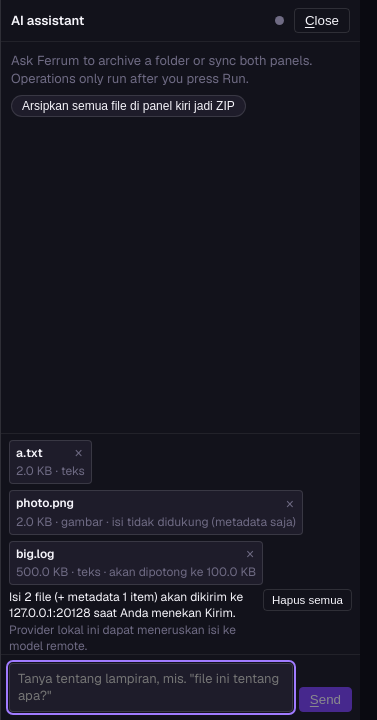
Test: ChatPanel attachments (FER-486) › shows name, size and kind per chip, the destination, and removes a chip
This screenshot has width=377, height=720.
Expected: the number of list items with test id "attachment-chip" is 3, [9,440,92,484]; [9,490,303,535]; [9,541,263,585]
Expected: the list item with test id "attachment-chip" shows "a.txt", [16,445,43,461]
Click the button named "Hapus lampiran a.txt": (79, 453) [73,446,85,460]
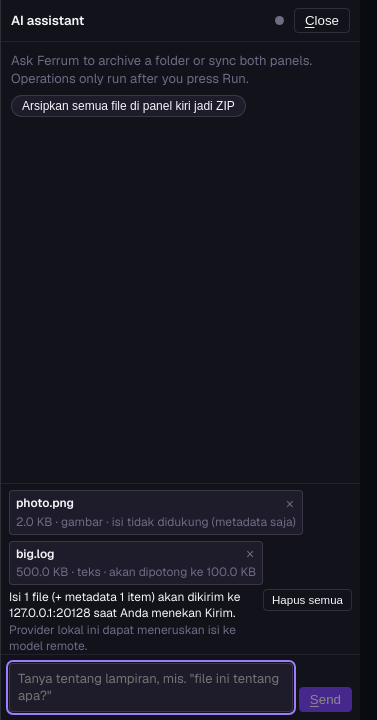
Expected: the number of list items with test id "attachment-chip" is 2, [9,490,303,535]; [9,541,263,585]
